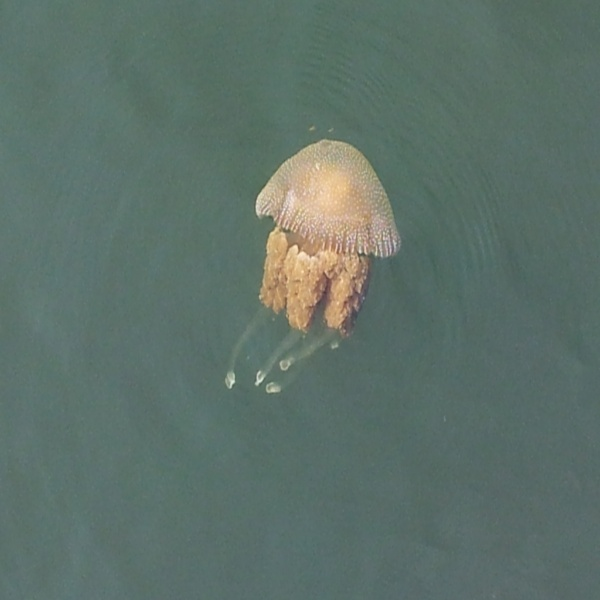Jellyfish: (245, 125, 414, 358)
